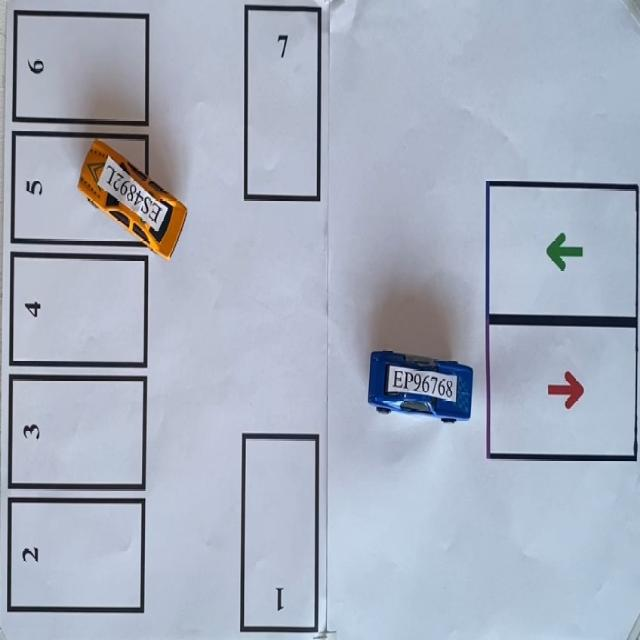car: (78, 139, 186, 258), (369, 350, 472, 421)
